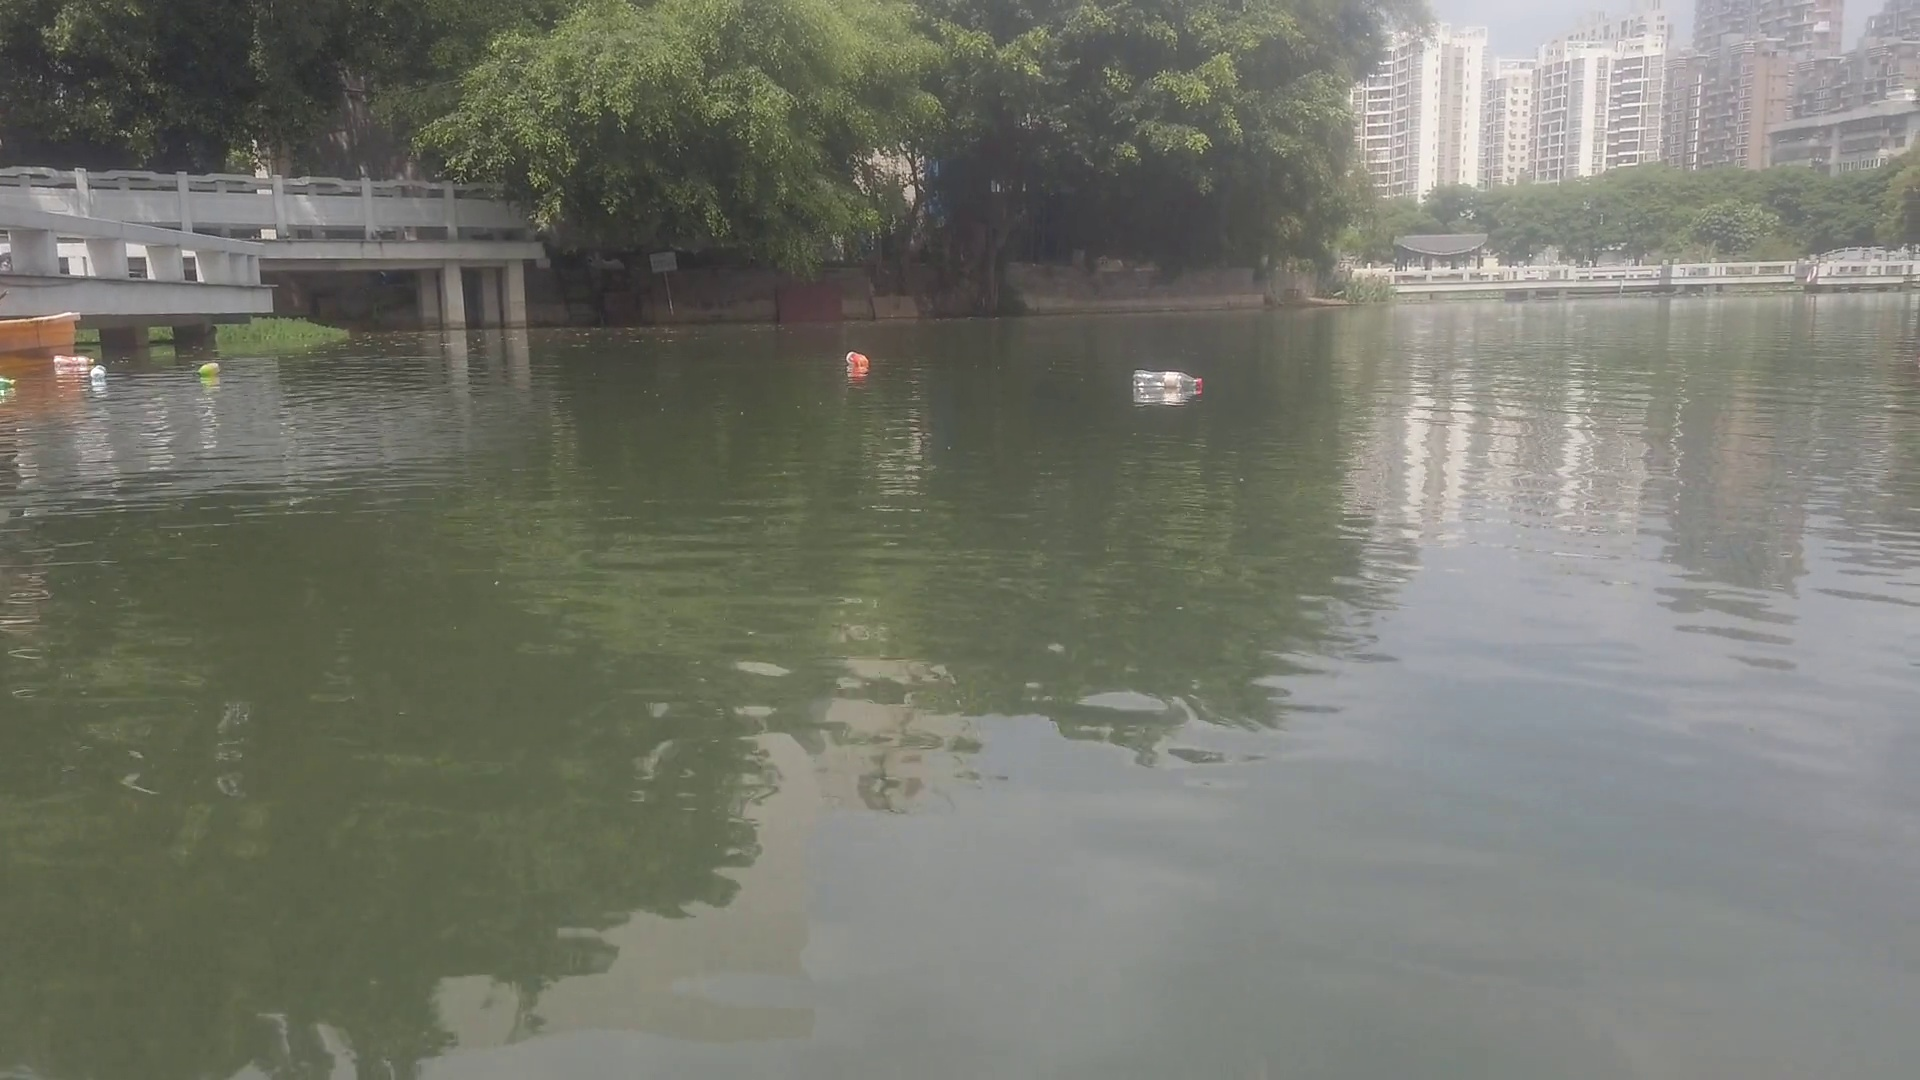bottle: (1133, 369, 1203, 392), (53, 353, 91, 371), (191, 360, 222, 380), (847, 349, 868, 371), (90, 364, 108, 380), (1, 376, 20, 390)
